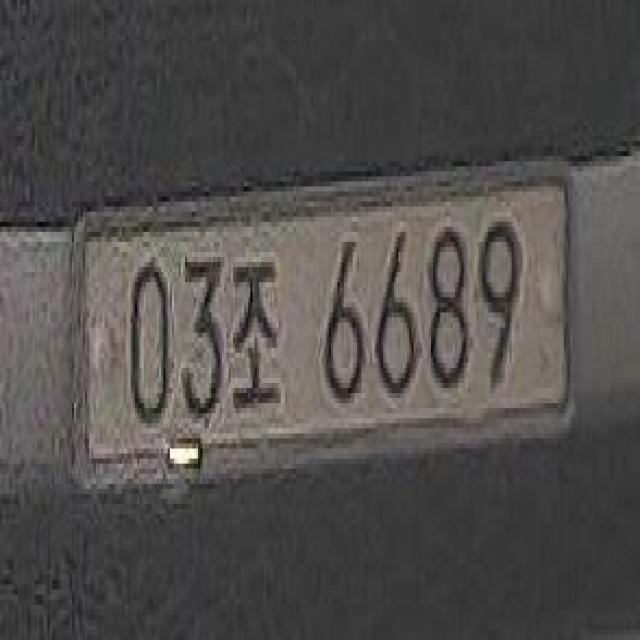illegal_plate: (84, 163, 569, 492)
